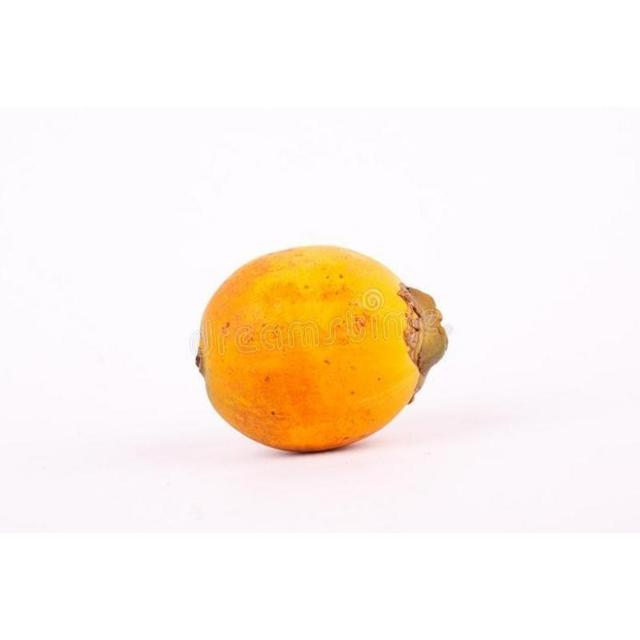good: (194, 245, 449, 455)
